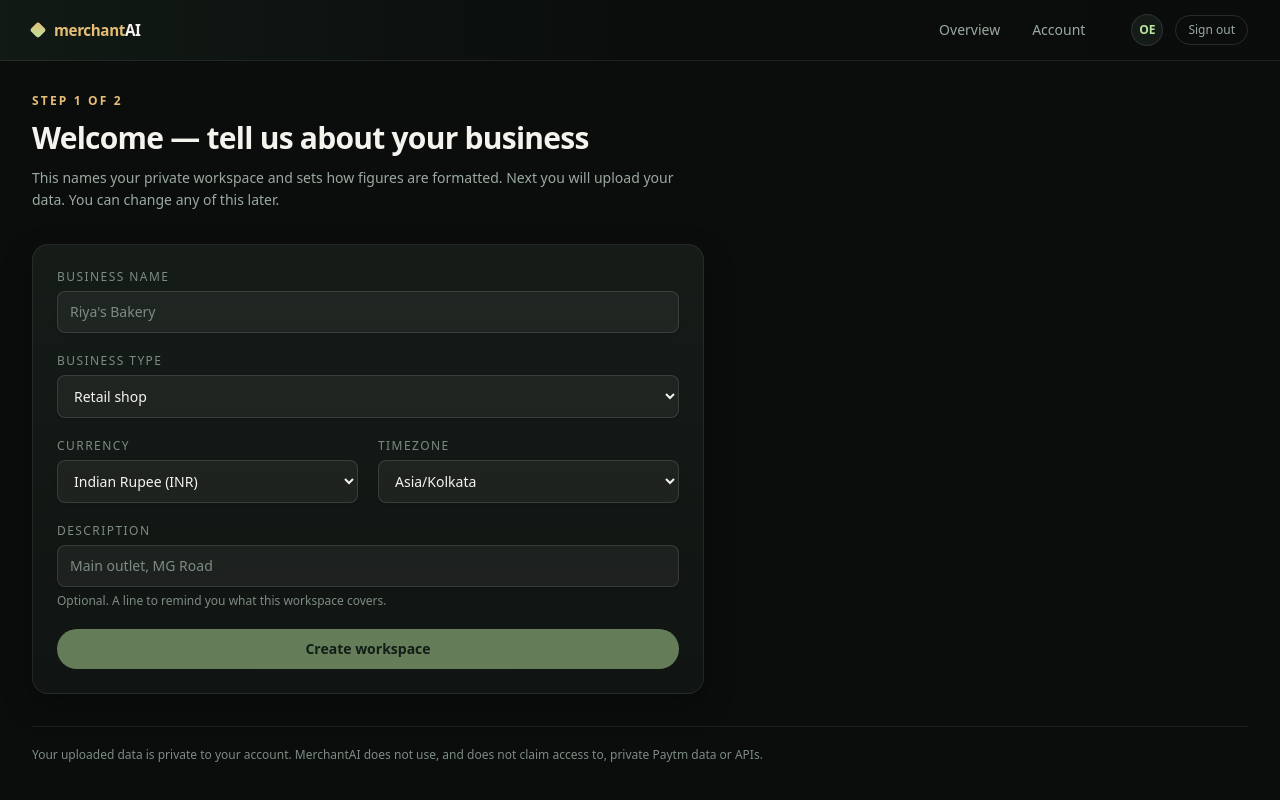
it: onboarding › reports a failure instead of pretending it worked
This screenshot has width=1280, height=800.
Type "x" into the field labelled "Business name" at (368, 312), box [57,291,679,333]
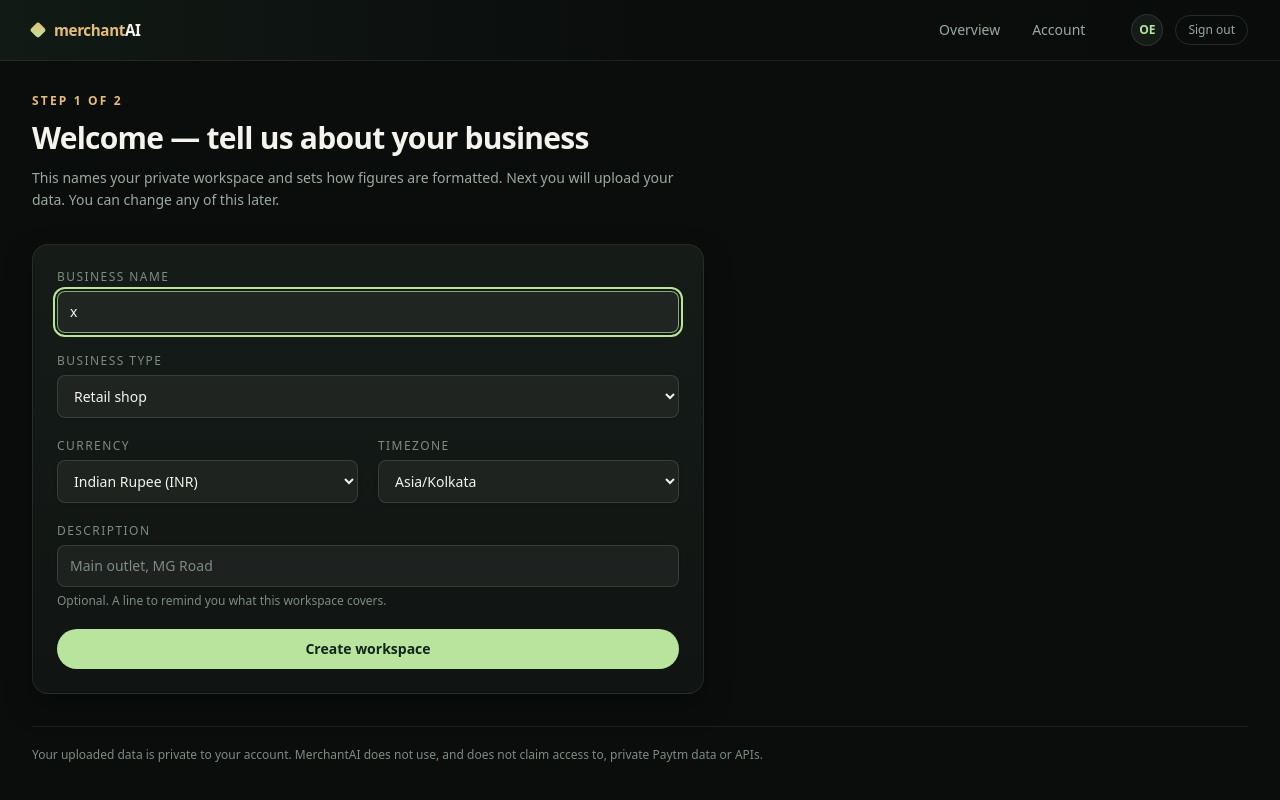
Click the button "Create workspace" at (368, 649), box [57,629,679,669]
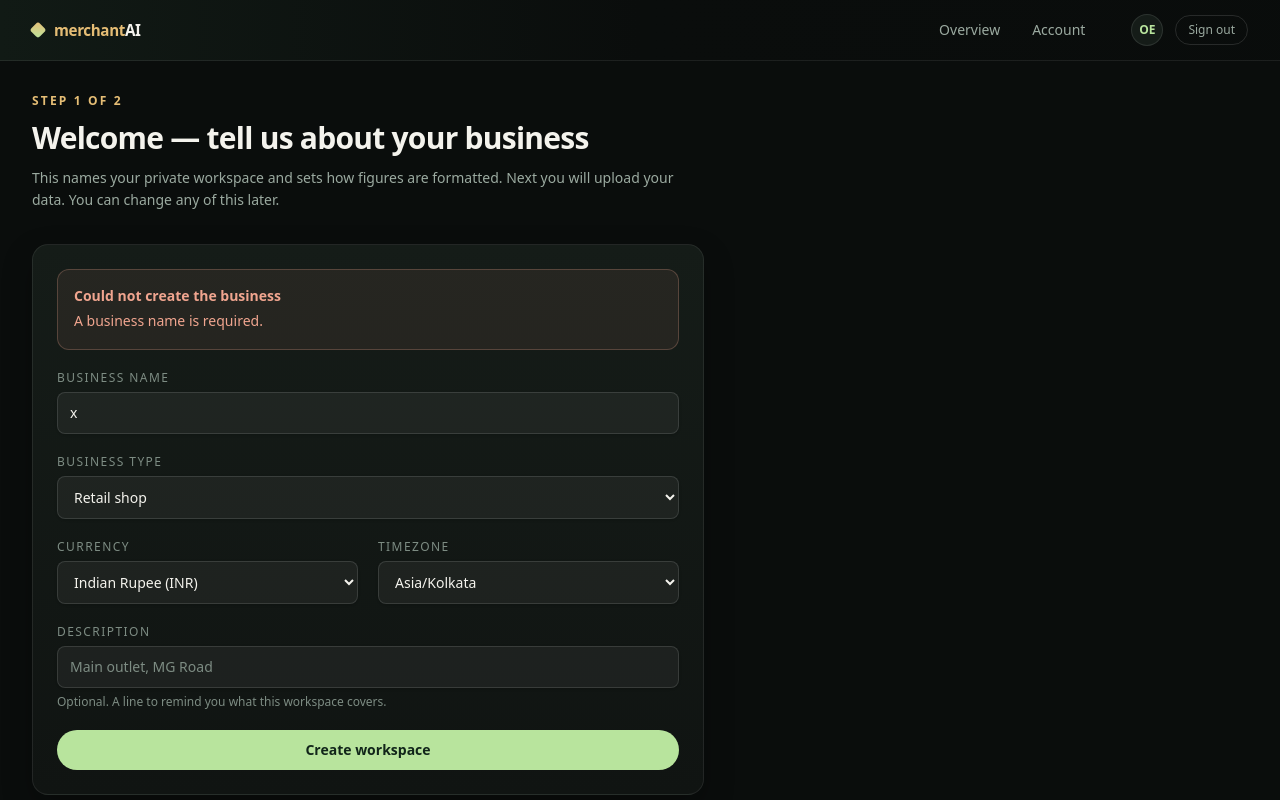
expect the message shows "business name is required": met, box [74,311,263,330]
